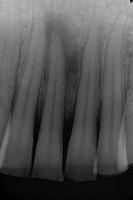Furcation Involvement: (45, 10, 87, 82)
